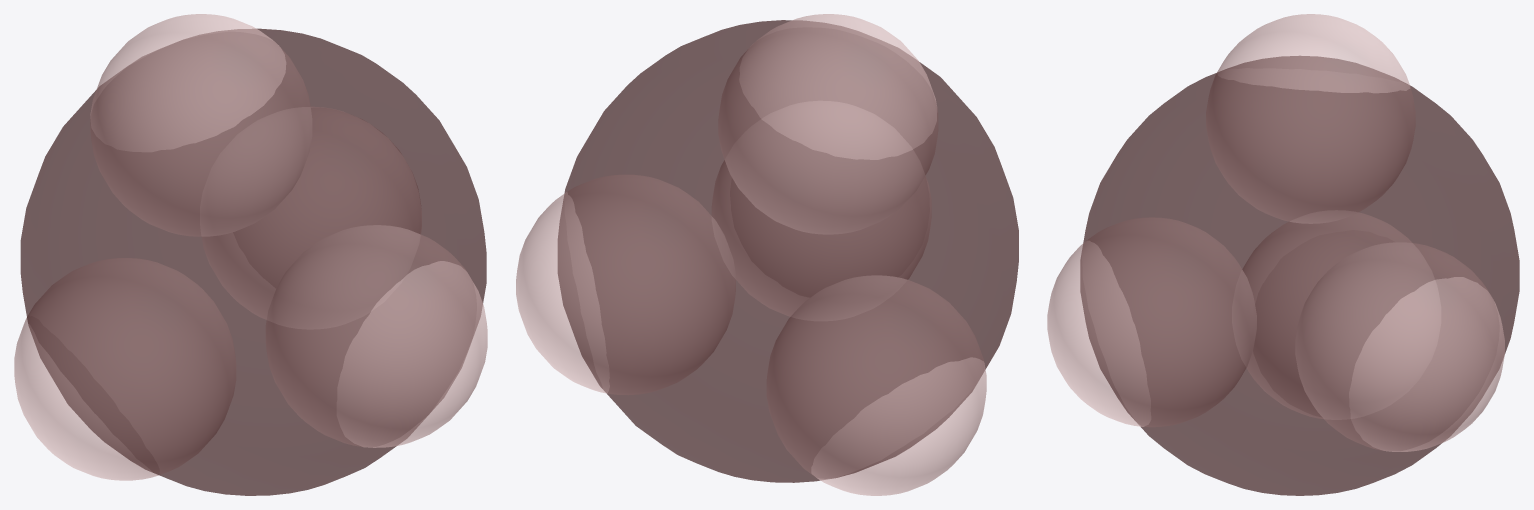
The model's file is MethaneSpheresV8.glb.
3 renders of one model, left to right at view 1: azimuth 30°, elevation 25°; view 2: azimuth 150°, elevation 25°; view 3: azimuth 270°, elevation 25°, orthographic. The views are drawn at different scales.
Visible parts, largest first — view 1: Carbon_ball.002, Hydrogen_ball.001, Hydrogen_ball.005, Hydrogen_ball.003, Hydrogen_ball.007; view 2: Carbon_ball.002, Hydrogen_ball.001, Hydrogen_ball.005, Hydrogen_ball.007, Hydrogen_ball.003; view 3: Carbon_ball.002, Hydrogen_ball.005, Hydrogen_ball.007, Hydrogen_ball.003, Hydrogen_ball.001.
Part boxes in pixels (bbox=[...]): Carbon_ball.002: bbox=[20, 28, 486, 495]; Hydrogen_ball.001: bbox=[14, 258, 235, 480]; Hydrogen_ball.005: bbox=[90, 14, 311, 236]; Hydrogen_ball.003: bbox=[266, 225, 487, 447]; Hydrogen_ball.007: bbox=[202, 107, 421, 319]; Carbon_ball.002: bbox=[558, 20, 1018, 482]; Hydrogen_ball.001: bbox=[767, 275, 986, 495]; Hydrogen_ball.005: bbox=[718, 14, 937, 234]; Hydrogen_ball.007: bbox=[516, 175, 735, 394]; Hydrogen_ball.003: bbox=[712, 160, 931, 316]; Carbon_ball.002: bbox=[1080, 56, 1519, 495]; Hydrogen_ball.005: bbox=[1206, 14, 1415, 223]; Hydrogen_ball.007: bbox=[1295, 242, 1504, 451]; Hydrogen_ball.003: bbox=[1047, 217, 1256, 426]; Hydrogen_ball.001: bbox=[1242, 212, 1411, 418].
Size of the model in its own units: 2.97 by 3.15 by 3.13.
